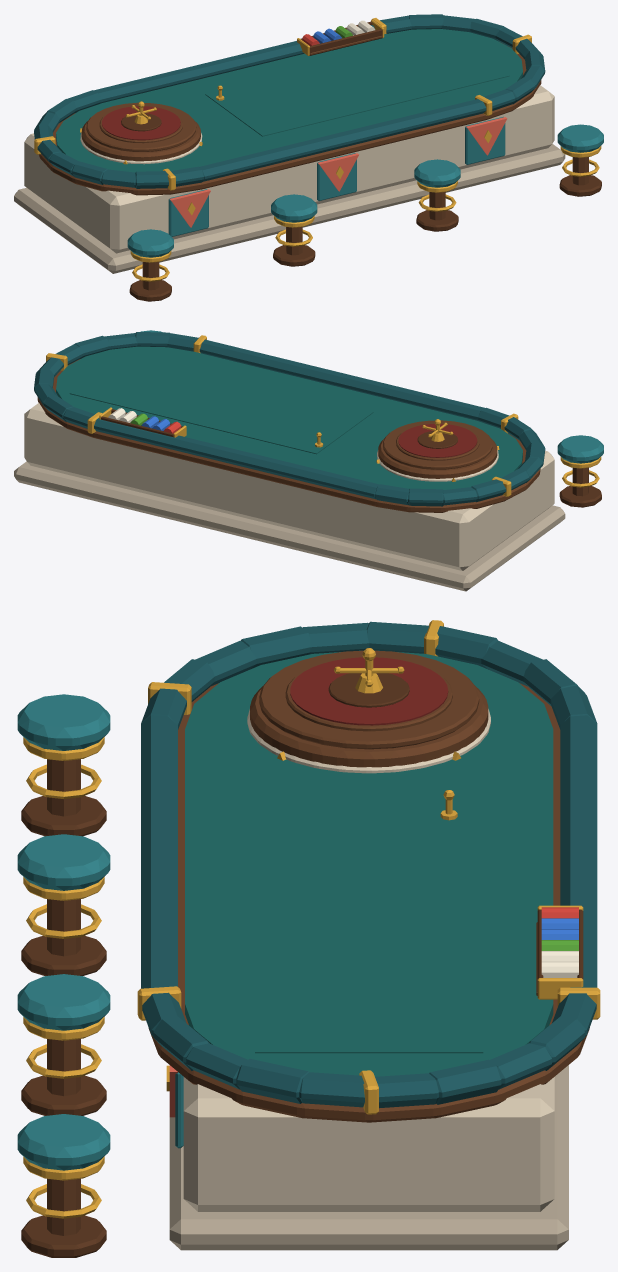
The model's file is roulette_table.glb.
3 renders of one model, top to bottom at view 1: azimuth 30°, elevation 25°; view 2: azimuth 150°, elevation 25°; view 3: azimuth 270°, elevation 25°, orthographic. The views are drawn at different scales.
Visible parts, largest first — view 1: roulette_table, part_rotor; view 2: roulette_table, part_rotor; view 3: roulette_table, part_rotor.
Boxes of the visible parts, box(x1,y1,x2,y2) form: roulette_table: box(14, 14, 603, 301); part_rotor: box(99, 101, 182, 143); roulette_table: box(14, 330, 603, 591); part_rotor: box(396, 419, 479, 460); roulette_table: box(17, 620, 600, 1257); part_rotor: box(285, 648, 452, 731).
Size of the model in its own units: 3.91 by 0.924 by 2.04.
